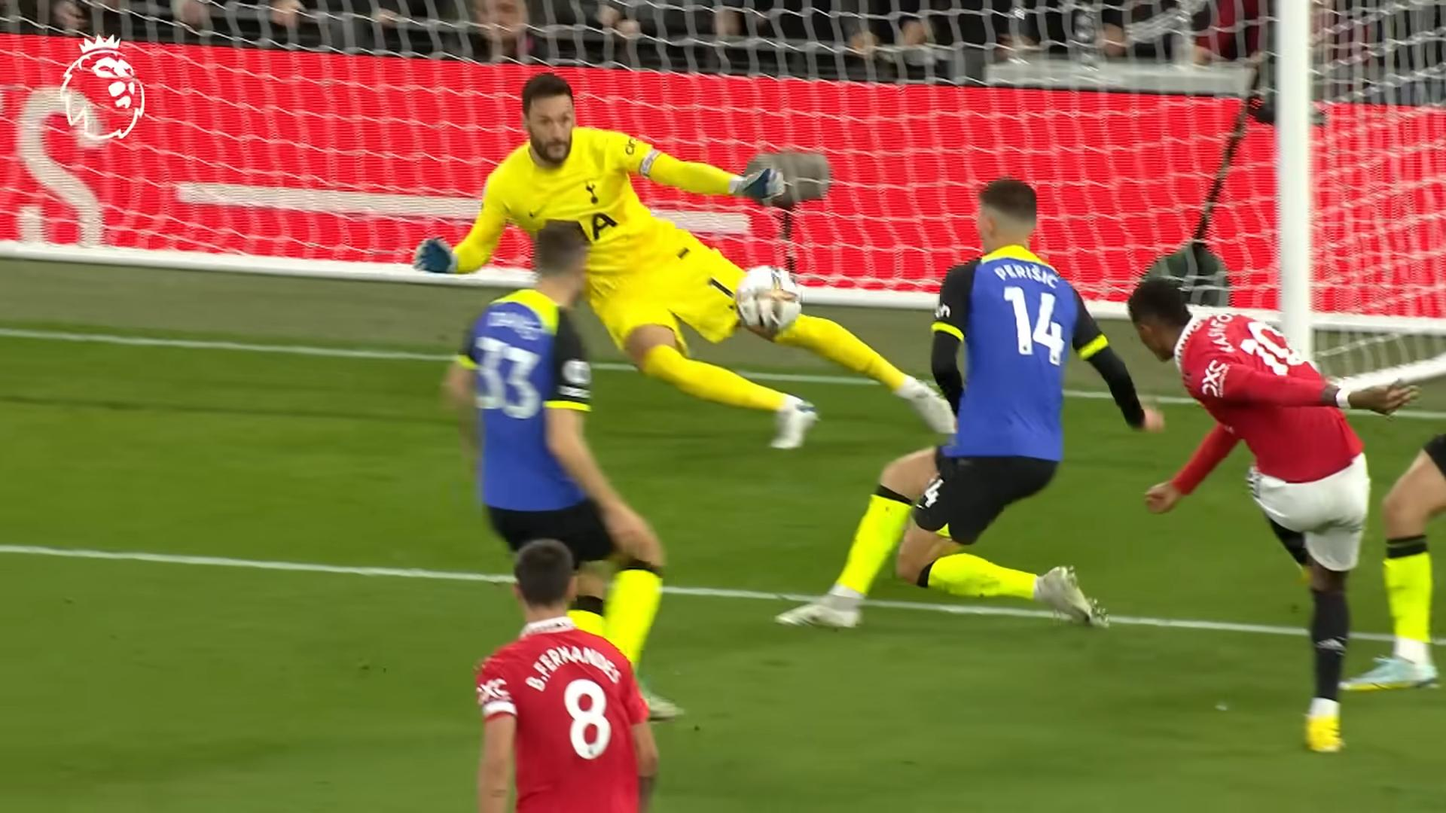Goalkeeper: (415, 73, 955, 449)
Player: (777, 178, 1164, 628), (1127, 279, 1415, 754), (443, 223, 664, 666), (477, 539, 658, 813), (1342, 435, 1446, 692)
ball: (734, 265, 802, 339)
